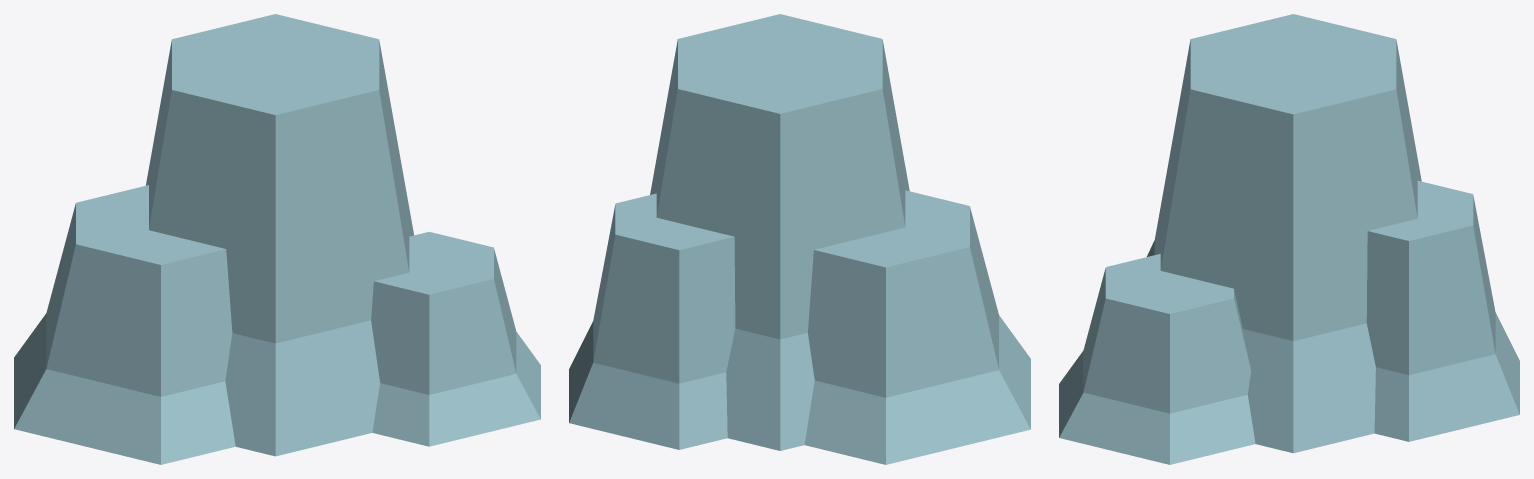
Rendered from rocksTall.fbx.
The picture shows the model from 3 angles, left to right: view 1: azimuth 30°, elevation 25°; view 2: azimuth 150°, elevation 25°; view 3: azimuth 270°, elevation 25°; orthographic projection.
Parts seen in each view (by area): view 1: rocksTall; view 2: rocksTall; view 3: rocksTall.
Part boxes in pixels (<box>): rocksTall: <box>14,14,540,464</box>; rocksTall: <box>569,14,1030,464</box>; rocksTall: <box>1059,14,1519,464</box>.
Bounding box in the file's own units: 9.34 × 5.9 × 8.15.
